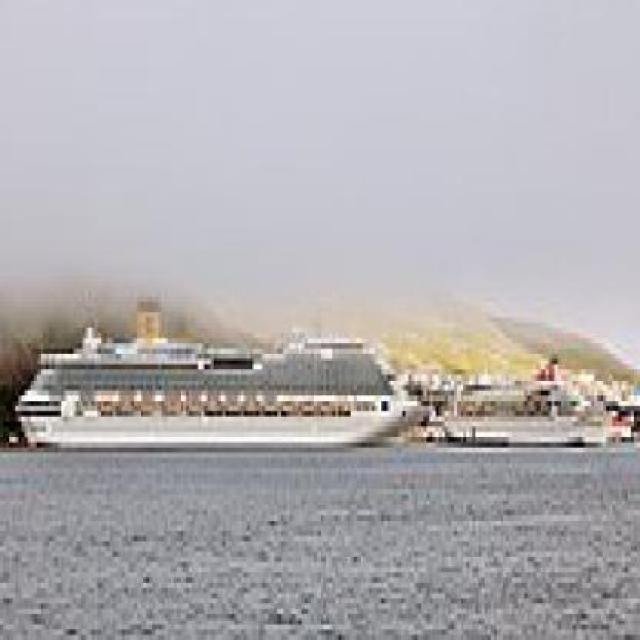cruise: (10, 303, 450, 474)
